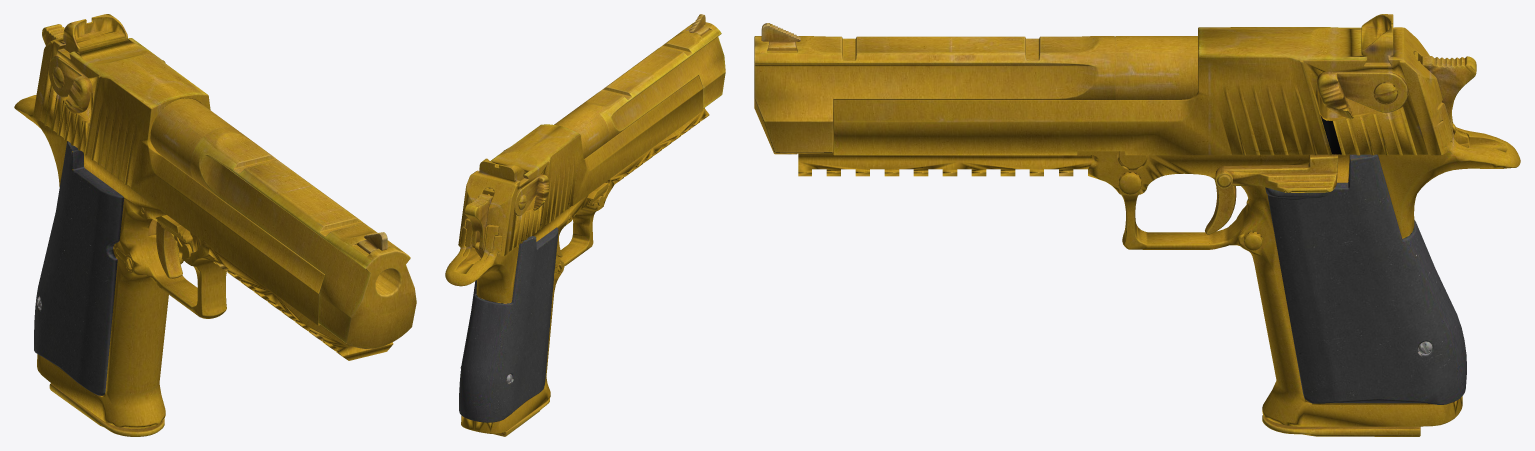
Rendered from deagle.glb.
3 renders of one model, left to right at view 1: azimuth 30°, elevation 25°; view 2: azimuth 150°, elevation 25°; view 3: azimuth 270°, elevation 25°, orthographic. The views are drawn at different scales.
Visible parts, largest first — view 1: Deagle_CS2_weapon_pist_deagle_0.001; view 2: Deagle_CS2_weapon_pist_deagle_0.001; view 3: Deagle_CS2_weapon_pist_deagle_0.001.
Boxes of the visible parts, x1,y1,x2,y2 form: Deagle_CS2_weapon_pist_deagle_0.001: [14, 14, 416, 436]; Deagle_CS2_weapon_pist_deagle_0.001: [445, 14, 725, 436]; Deagle_CS2_weapon_pist_deagle_0.001: [754, 14, 1520, 436].
Bounding box in the file's own units: 0.0378 × 0.1442 × 0.2499.
Materials: 2 (2 with a texture image).
